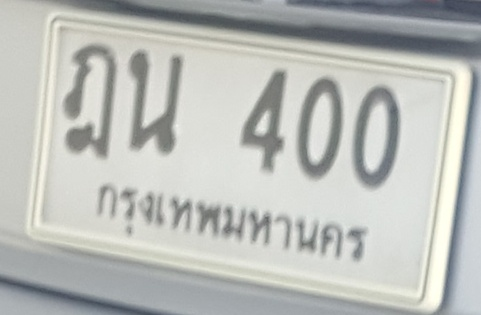txt11: (59, 40, 120, 160)
txt20: (122, 47, 185, 156)
